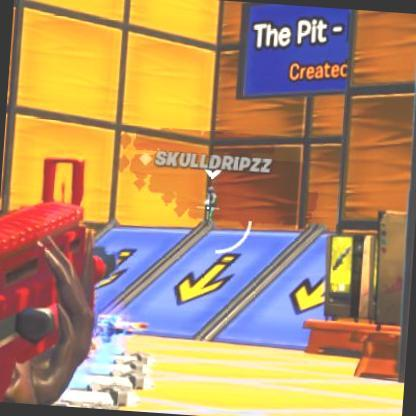person: (201, 190, 222, 221)
